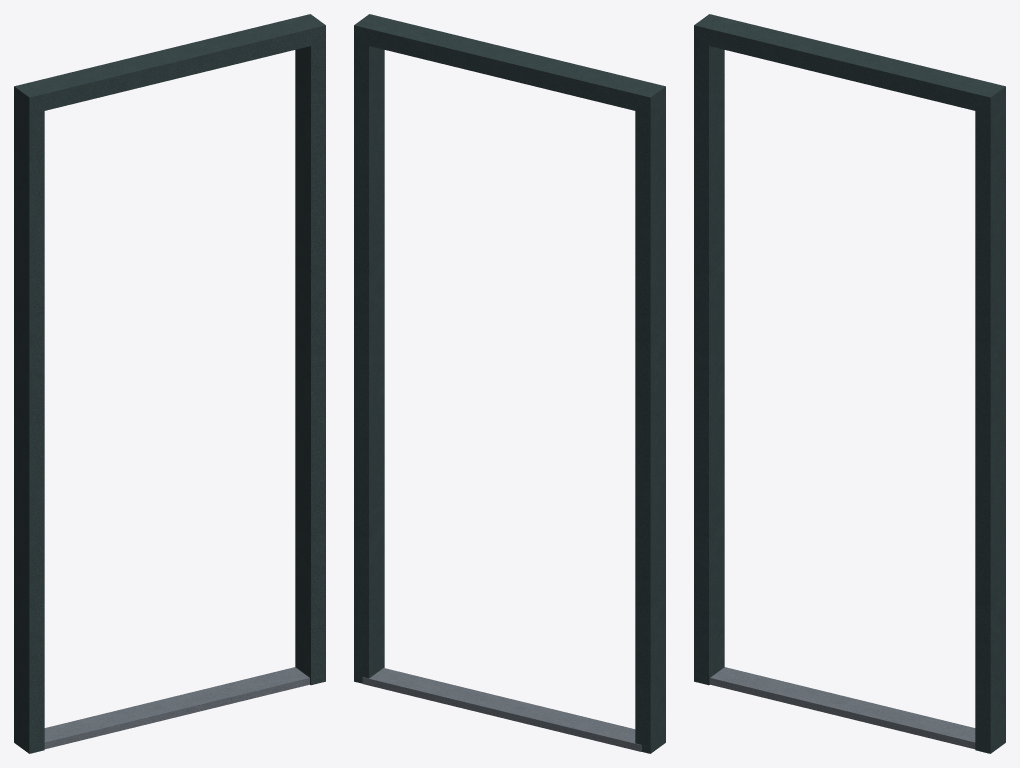
Rendered from Shop_Door_Frame.glb.
3 renders of one model, left to right at view 1: azimuth 30°, elevation 25°; view 2: azimuth 150°, elevation 25°; view 3: azimuth 330°, elevation 25°, orthographic.
Parts seen in each view (by area): view 1: VIS_powdercoat, VIS_steel; view 2: VIS_powdercoat, VIS_steel; view 3: VIS_powdercoat, VIS_steel.
Part boxes in pixels (x1=…): VIS_powdercoat: x1=14, y1=14, x2=325, y2=753; VIS_steel: x1=44, y1=667, x2=309, y2=749; VIS_powdercoat: x1=354, y1=14, x2=665, y2=753; VIS_steel: x1=362, y1=668, x2=641, y2=751; VIS_powdercoat: x1=694, y1=14, x2=1005, y2=753; VIS_steel: x1=710, y1=667, x2=975, y2=749.
Size of the model in its own units: 1.18 by 2.5 by 0.108.
Materials: 2 (2 with a texture image).
